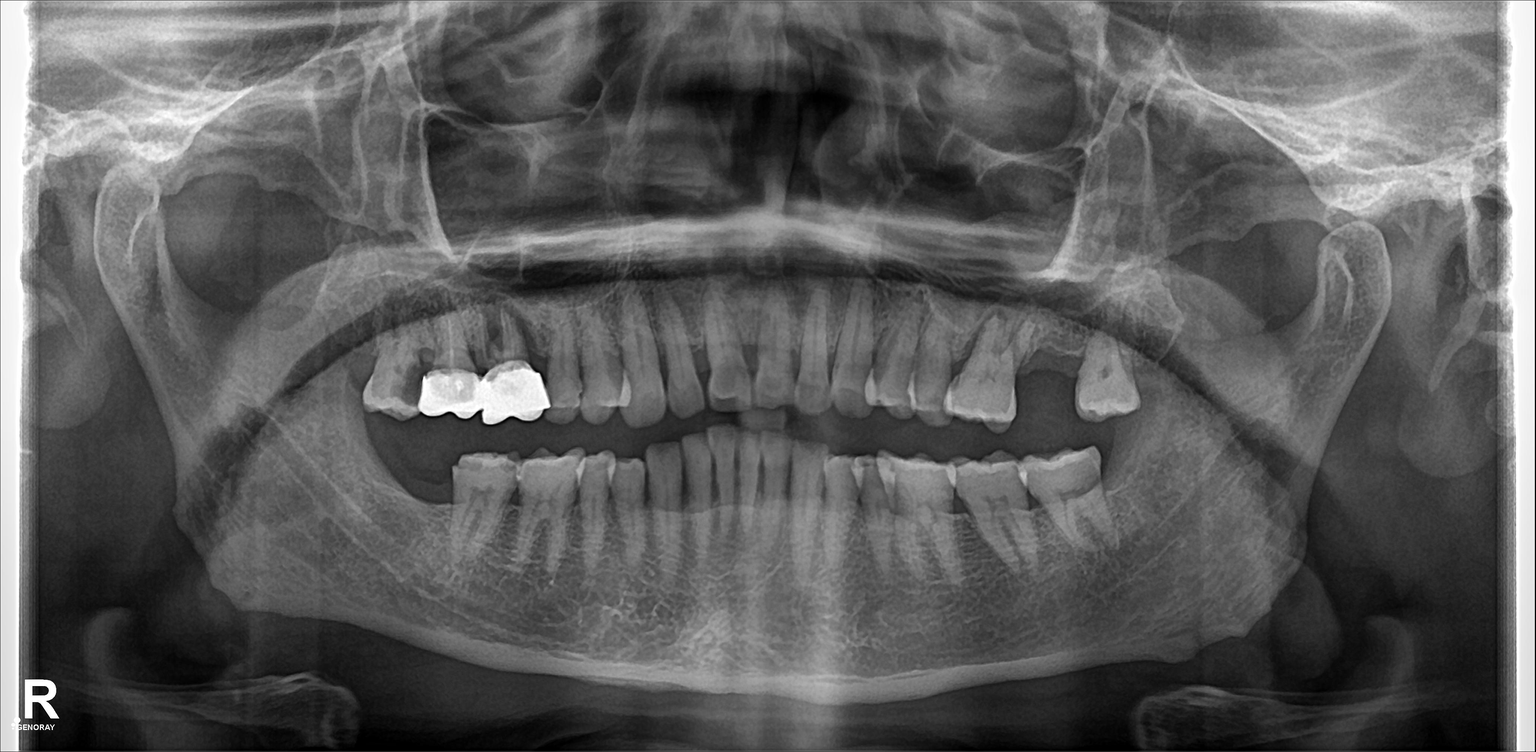Dental Caries: (402, 357, 419, 410)
Endodontically Treated Tooth: (484, 311, 542, 417), (425, 313, 477, 419)
Missing Tooth: (1013, 328, 1079, 428), (363, 424, 419, 532), (417, 436, 454, 541)
